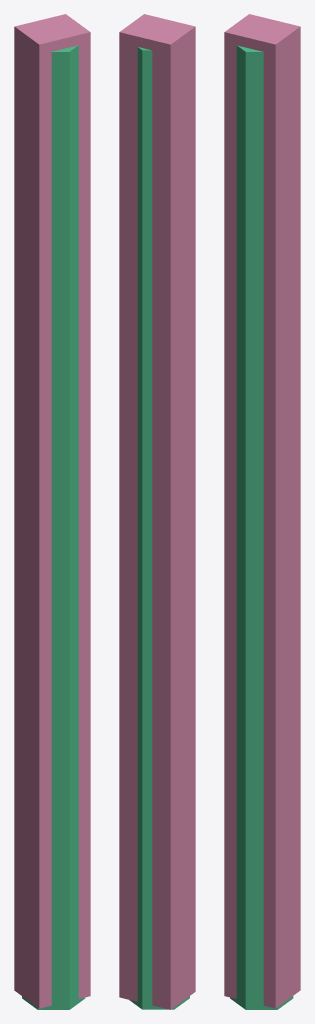
File: ruinedpier_01_a.dae
3 renders of one model, left to right at view 1: azimuth 30°, elevation 25°; view 2: azimuth 150°, elevation 25°; view 3: azimuth 330°, elevation 25°, orthographic.
Visible parts, largest first — view 1: Untitled, Colmesh-1; view 2: Untitled, Colmesh-1; view 3: Untitled, Colmesh-1.
Part boxes in pixels (x1,y1,x2,y2): Untitled: [14, 14, 90, 1008]; Colmesh-1: [22, 45, 85, 1009]; Untitled: [119, 14, 195, 1009]; Colmesh-1: [129, 47, 189, 1009]; Untitled: [224, 14, 300, 1008]; Colmesh-1: [230, 45, 293, 1009].
Bounding box in the file's own units: 0.5599 × 0.6 × 10.11.
